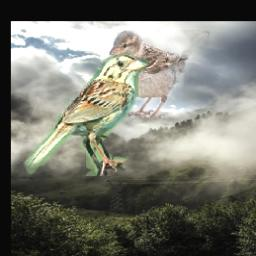Sparrow: (21, 53, 149, 177), (109, 30, 210, 118)
